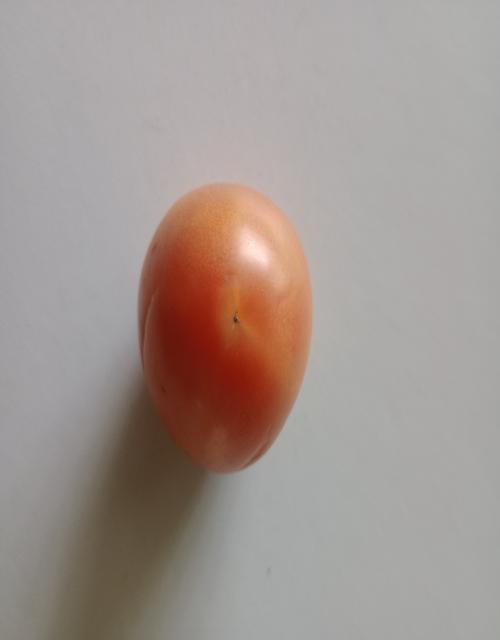Tomate: (113, 127, 334, 520)
